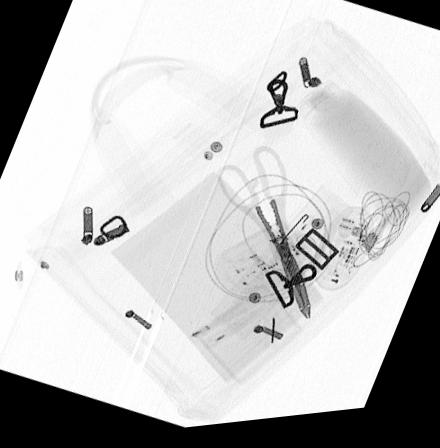Scissors: (215, 149, 311, 330)
